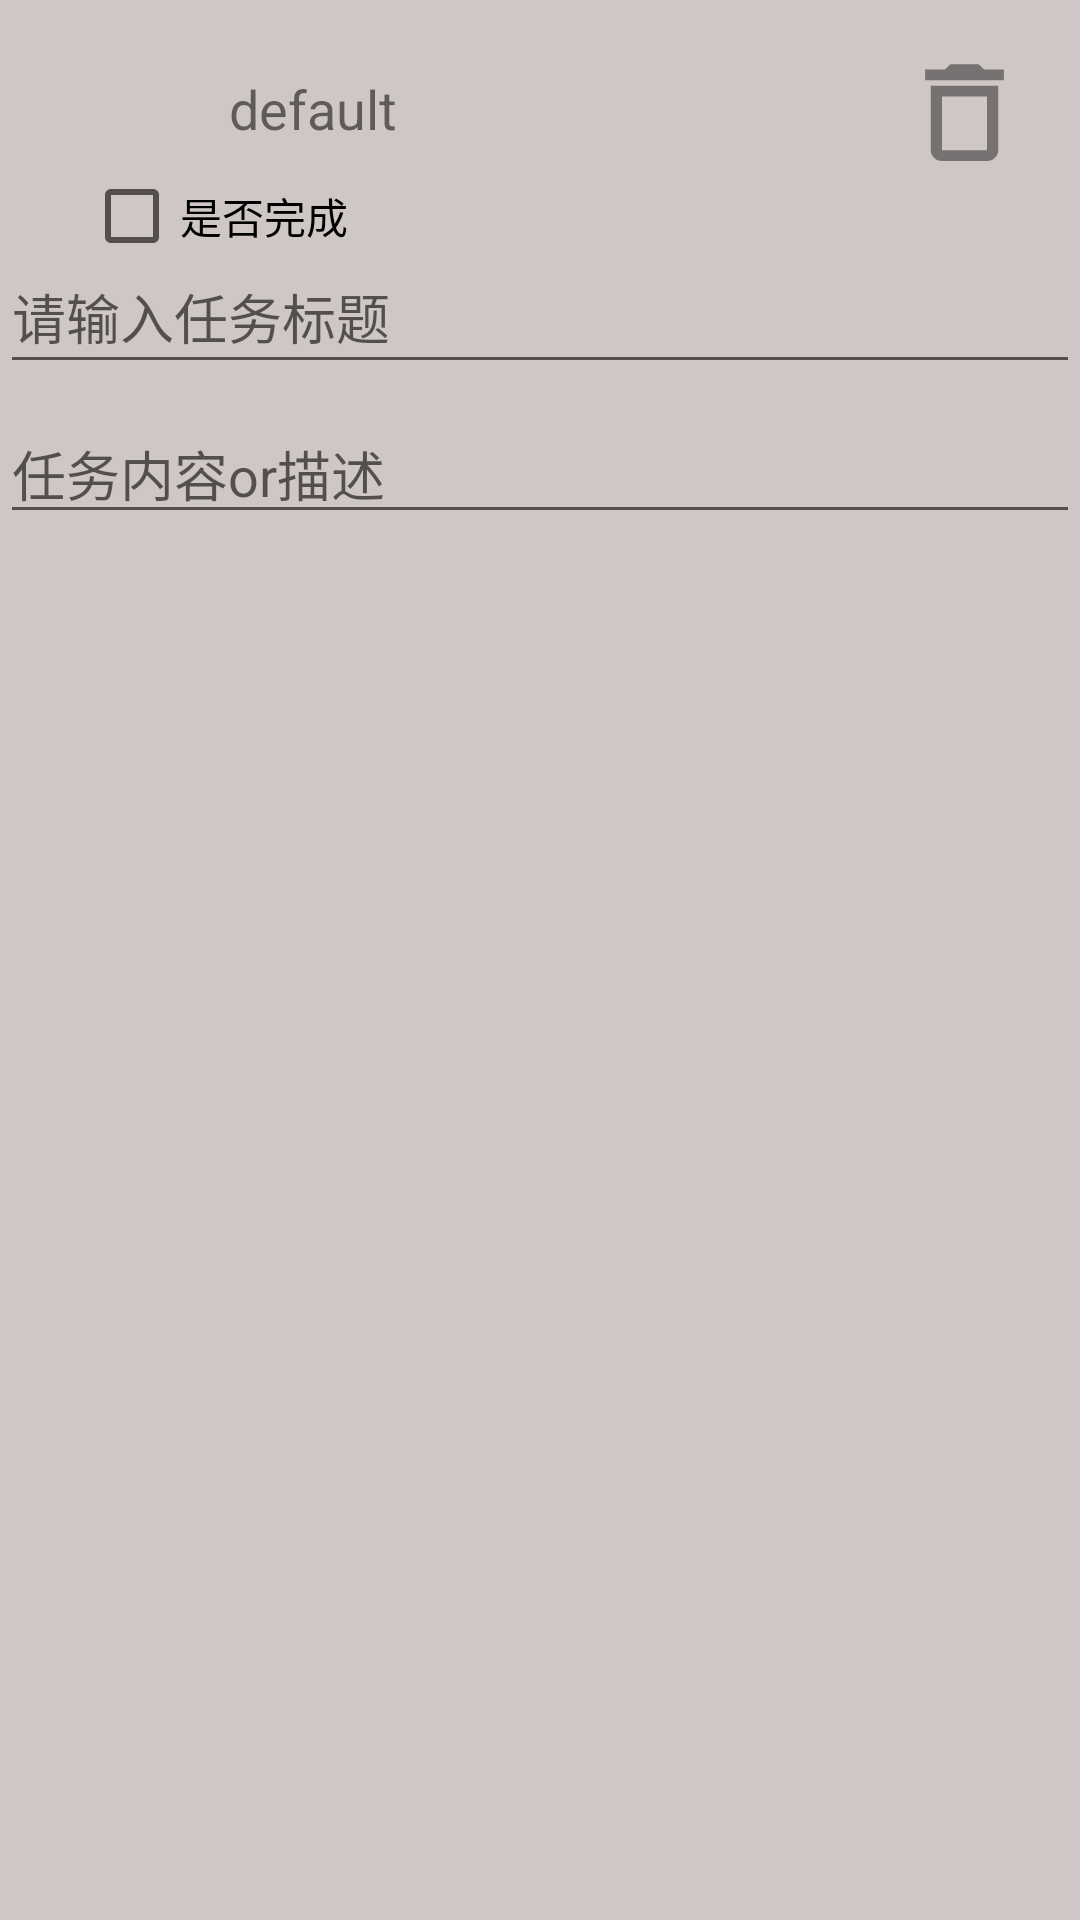

Named icons in this screenshot (1080*1920) and their bounding boxes, (x1, y1, x2, y2):
delete: (925, 64, 1004, 161)
